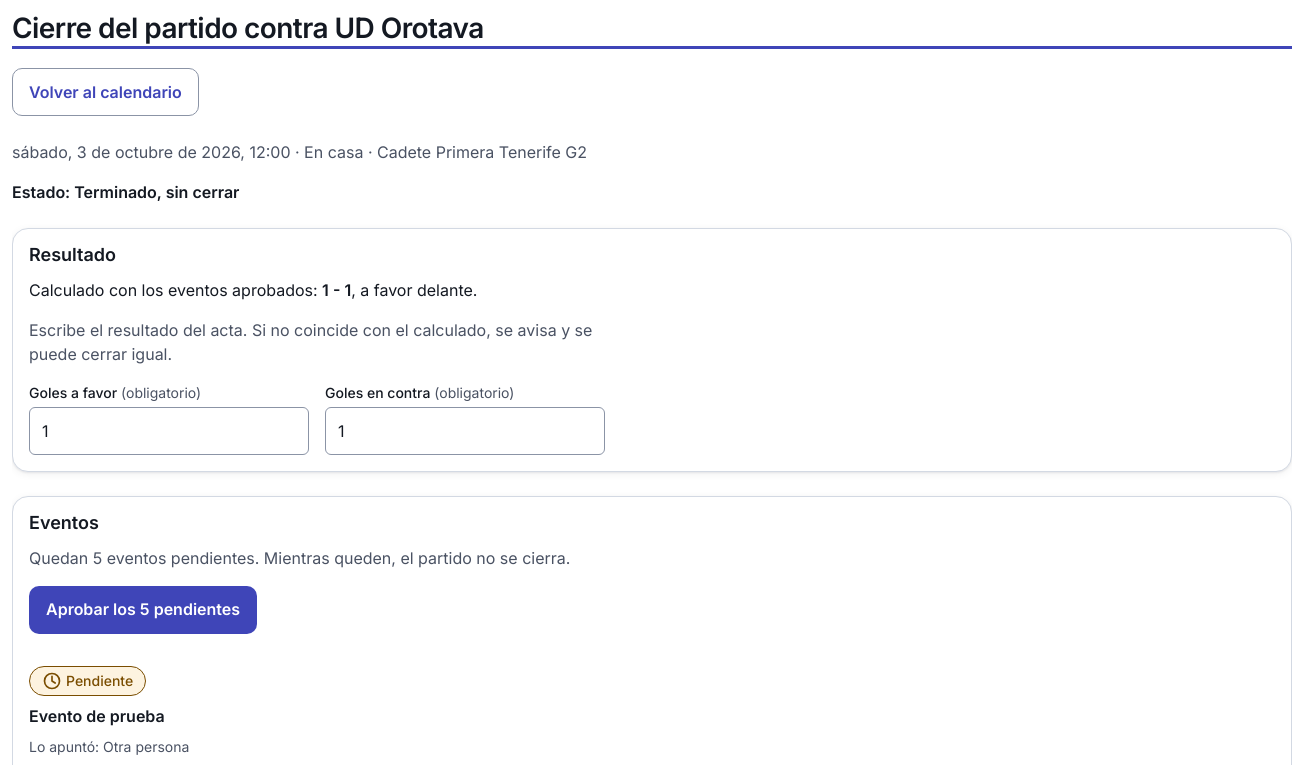
A13 · Panel de eventos (T-210b) › aprobar cinco y que vuelvan dos anuncia «Aprobados 2 de 5»
Click the button "Aprobar los 5 pendientes".
click(143, 610)  # box left=29, top=586, right=257, bottom=634
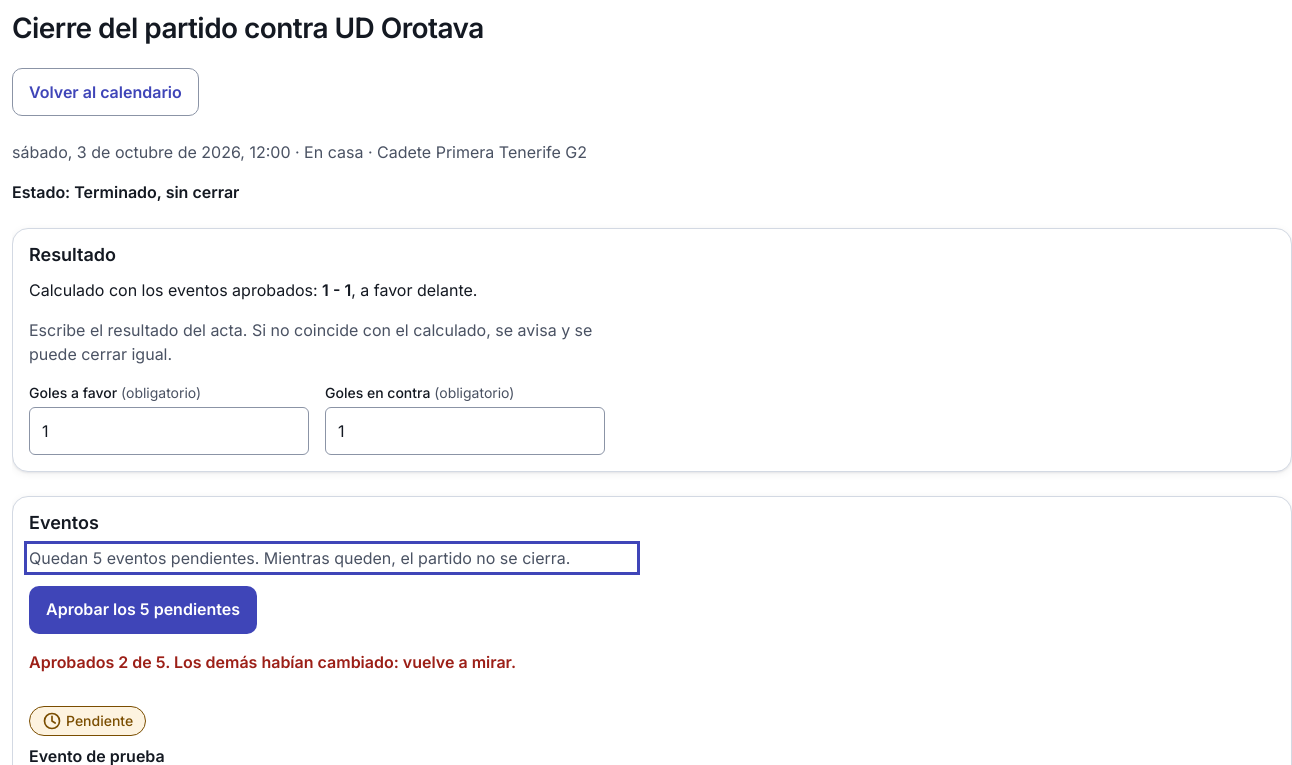
Check: the text "Aprobados 2 de 5. Los demás habían cambiado: vuelve a mirar." is shown, box left=29, top=652, right=516, bottom=672
